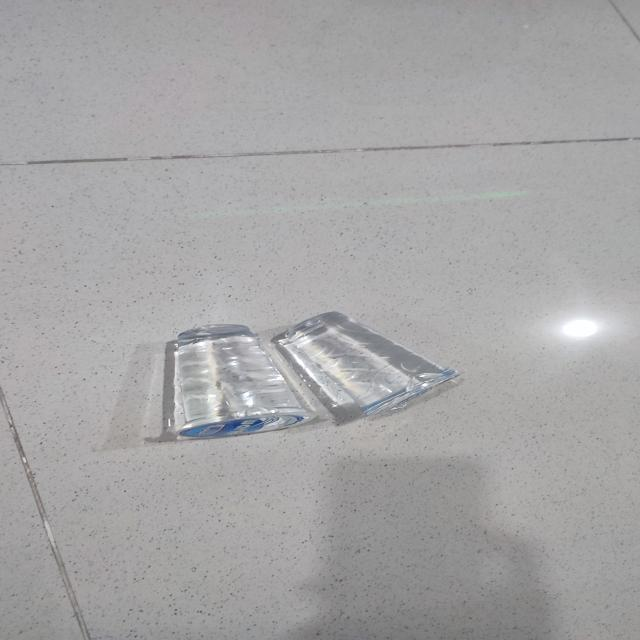air gelas: (266, 307, 471, 426), (143, 321, 323, 447)
